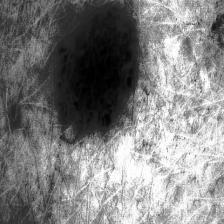Benign Marking or Mole: (57, 8, 136, 127)
